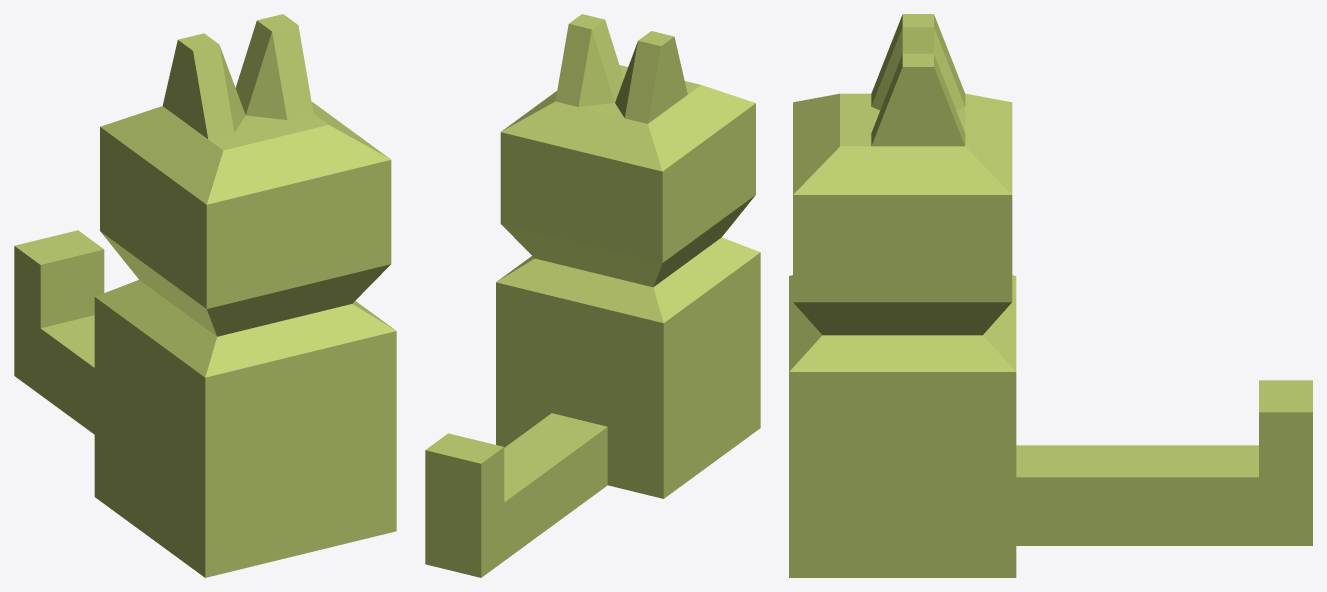
File: cat.dae
The picture shows the model from 3 angles, left to right: view 1: azimuth 30°, elevation 25°; view 2: azimuth 150°, elevation 25°; view 3: azimuth 270°, elevation 25°; orthographic projection. The views are drawn at different scales.
Parts seen in each view (by area): view 1: Cube; view 2: Cube; view 3: Cube.
Boxes of the visible parts, box(x1,y1,x2,y2) form: Cube: box(14, 14, 396, 577); Cube: box(425, 14, 760, 577); Cube: box(789, 14, 1312, 577).
Size of the model in its own units: 2 by 4.61 by 4.76.
